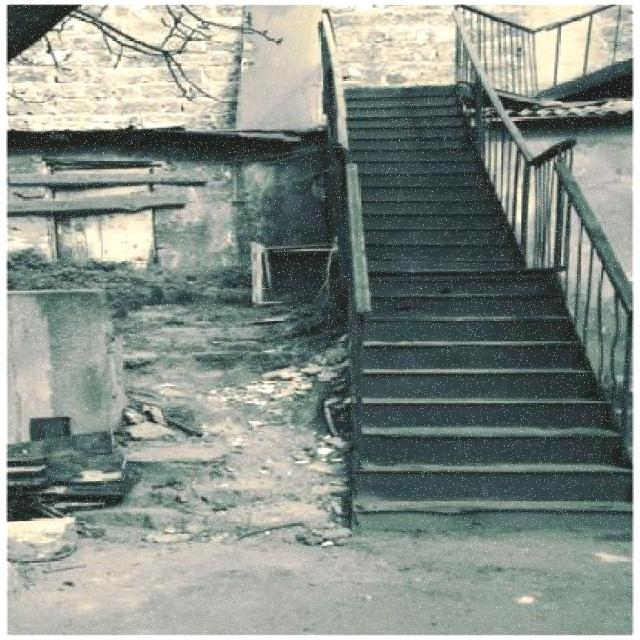stair: (344, 80, 638, 531)
